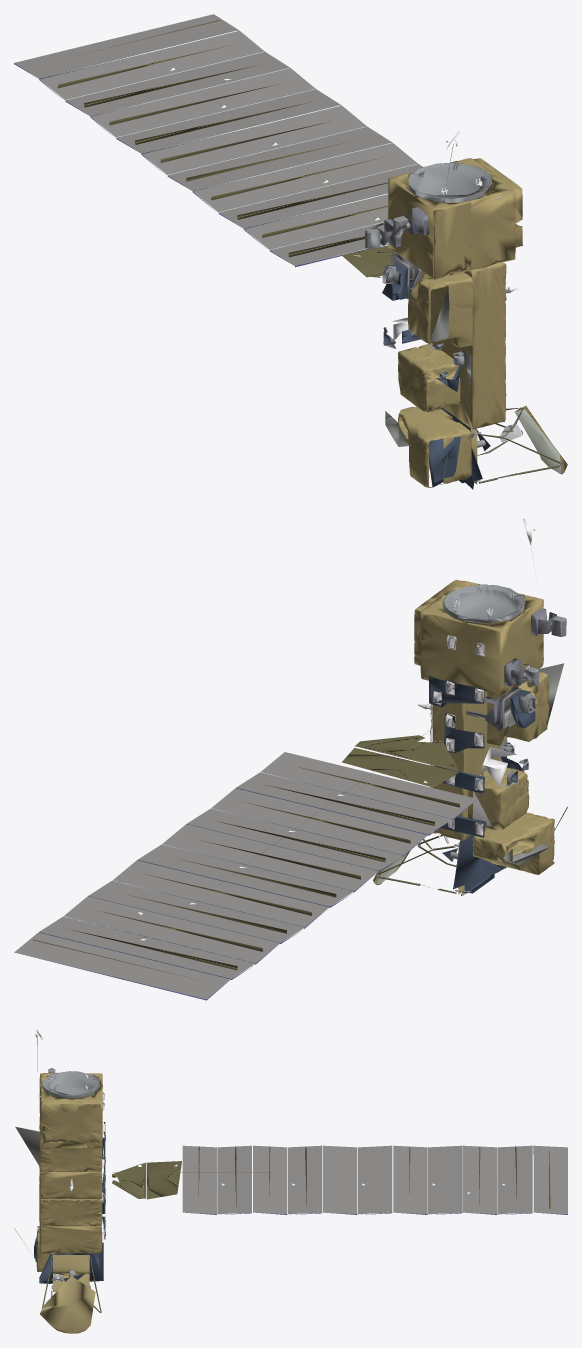
Rendered from aqua-a.glb.
3 renders of one model, top to bottom at view 1: azimuth 30°, elevation 25°; view 2: azimuth 150°, elevation 25°; view 3: azimuth 270°, elevation 25°, orthographic. The views are drawn at different scales.
Parts seen in each view (by area): view 1: Aqua_Reduced_v0014 [Aqua_Layered_02 [(unnamed)]]; view 2: Aqua_Reduced_v0014 [Aqua_Layered_02 [(unnamed)]]; view 3: Aqua_Reduced_v0014 [Aqua_Layered_02 [(unnamed)]].
Boxes of the visible parts, x1=… form: Aqua_Reduced_v0014 [Aqua_Layered_02 [(unnamed)]]: x1=14, y1=14, x2=567, y2=489; Aqua_Reduced_v0014 [Aqua_Layered_02 [(unnamed)]]: x1=14, y1=518, x2=567, y2=1000; Aqua_Reduced_v0014 [Aqua_Layered_02 [(unnamed)]]: x1=14, y1=1029, x2=567, y2=1333.
Size of the model in its own units: 124 by 229 by 434.
Materials: 2 (2 with a texture image).
